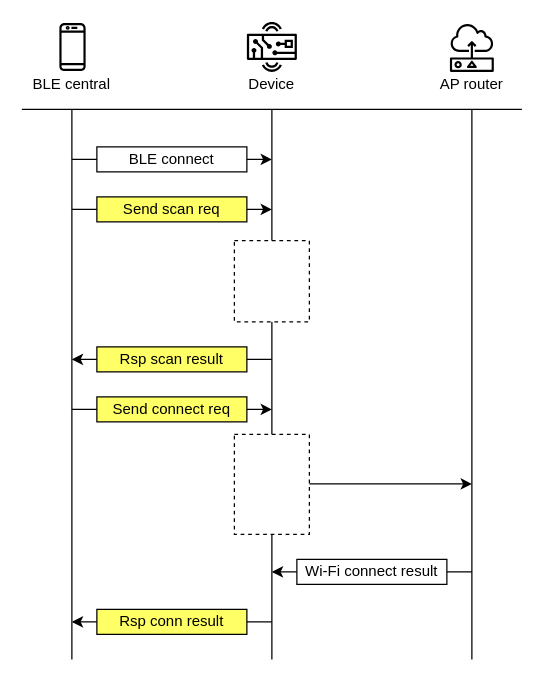
Some shapes in this 545 by 683 pixel diagram are drawn without their labels. Here are the shapes that lost their labels. From the top down, the centre of each, then its label:
At pixel 271 280: "Process scan req".
At pixel 271 483: "Process Wi-Fi connect base on given info".
